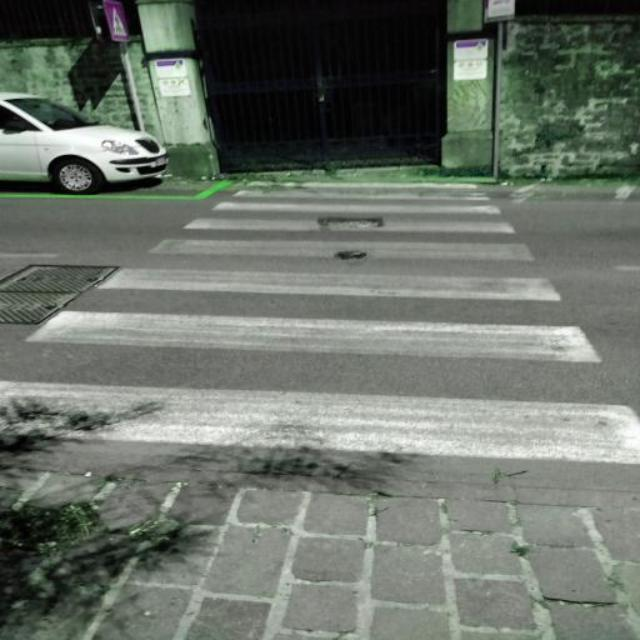sidewalk: (2, 180, 640, 465)
